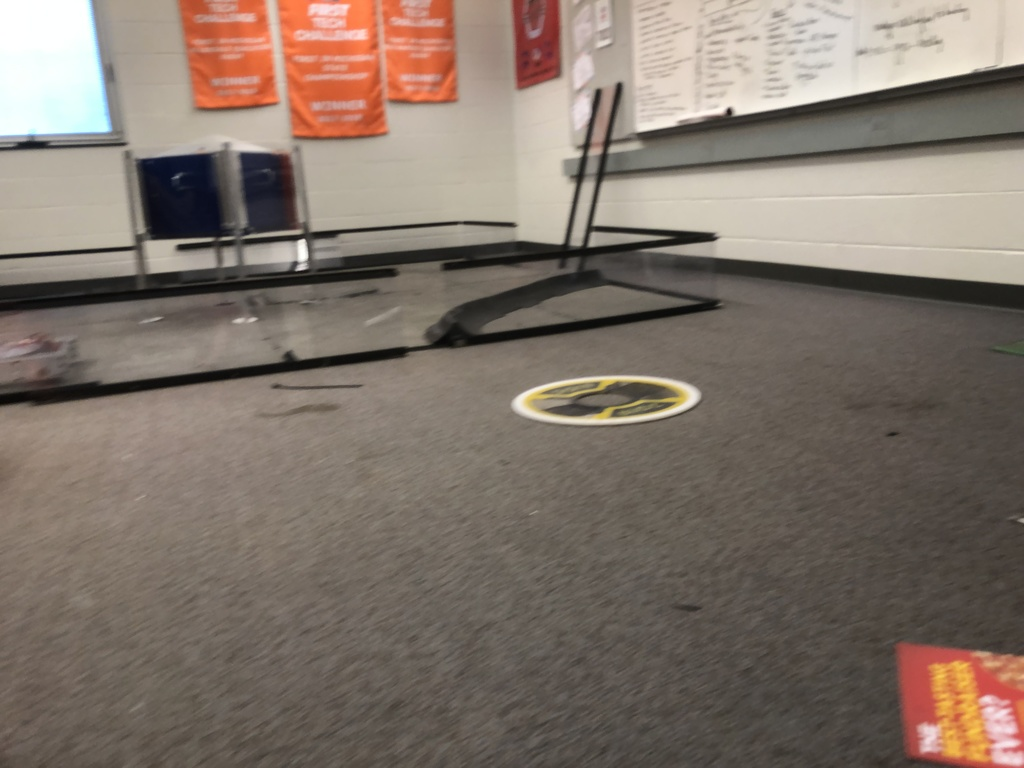hatch_panel: (501, 364, 715, 432)
